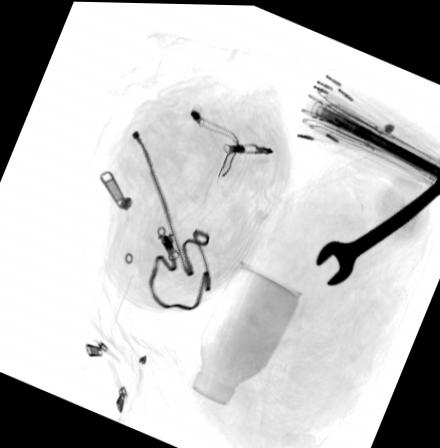Wrench: (313, 162, 440, 286)
